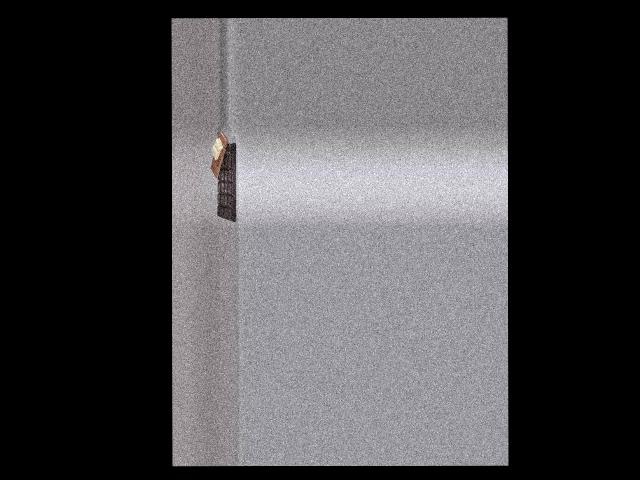chocolate: (214, 138, 239, 222)
